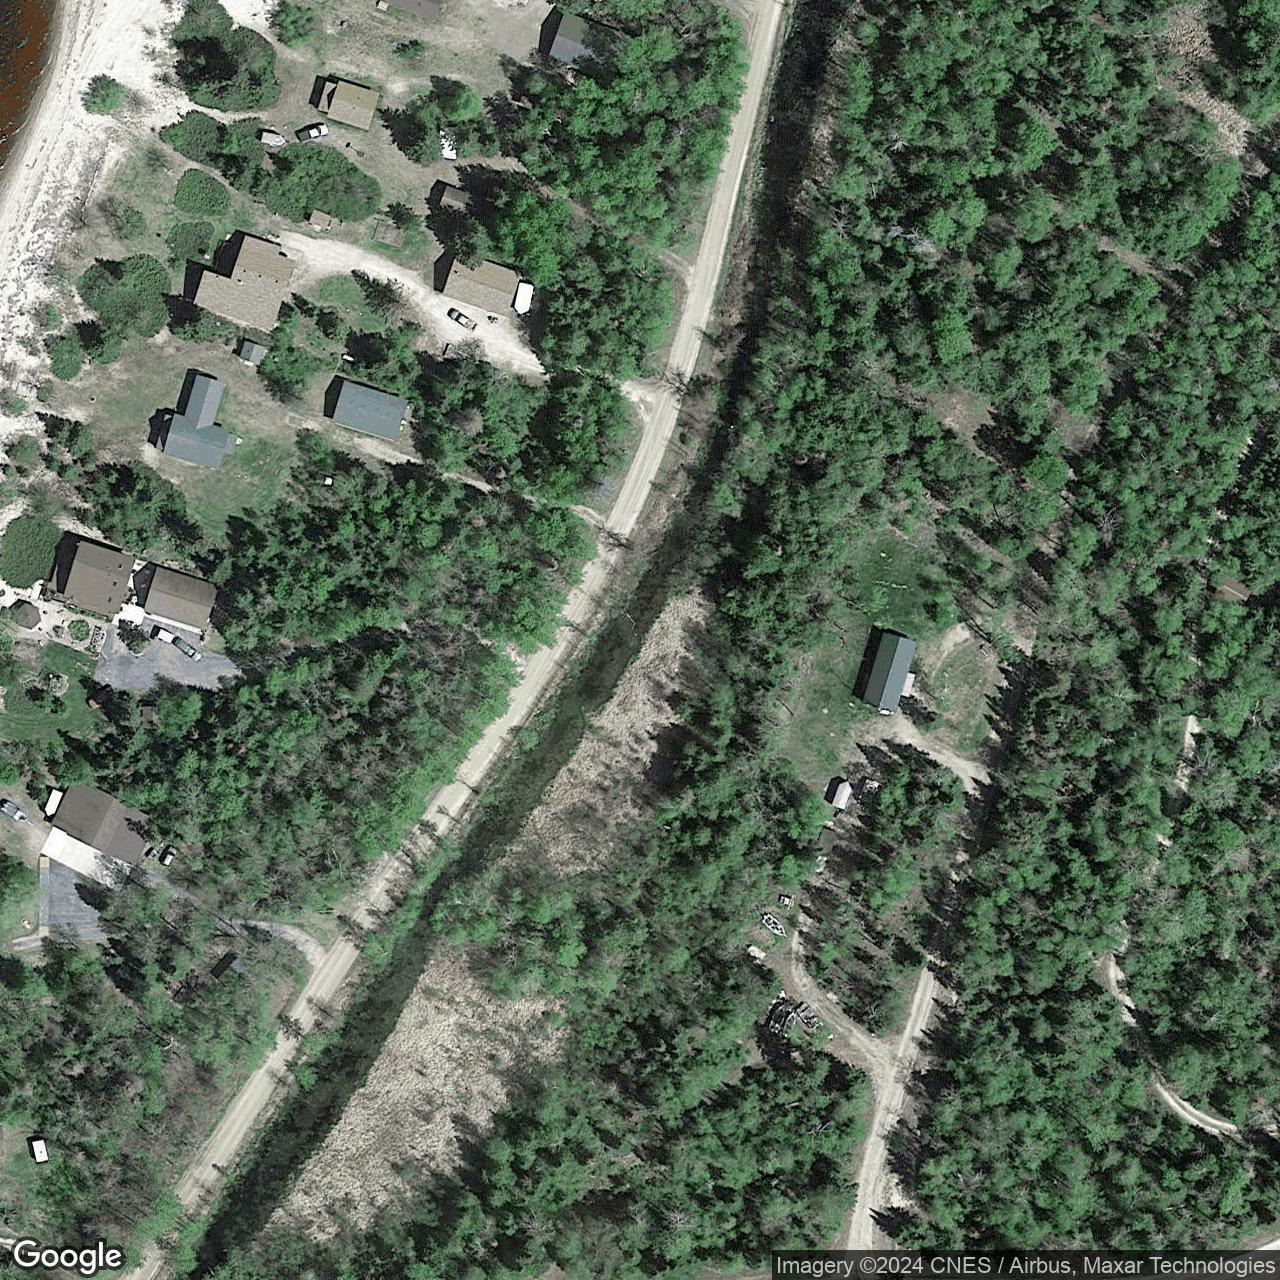Garage: (547, 11, 628, 82), (442, 251, 522, 318), (143, 565, 218, 631), (332, 379, 408, 442)
House: (192, 236, 297, 333), (52, 781, 155, 866), (156, 375, 238, 471), (62, 540, 136, 617), (864, 633, 914, 714), (316, 81, 379, 131), (377, 0, 441, 22)
Propane: (341, 353, 355, 362)
